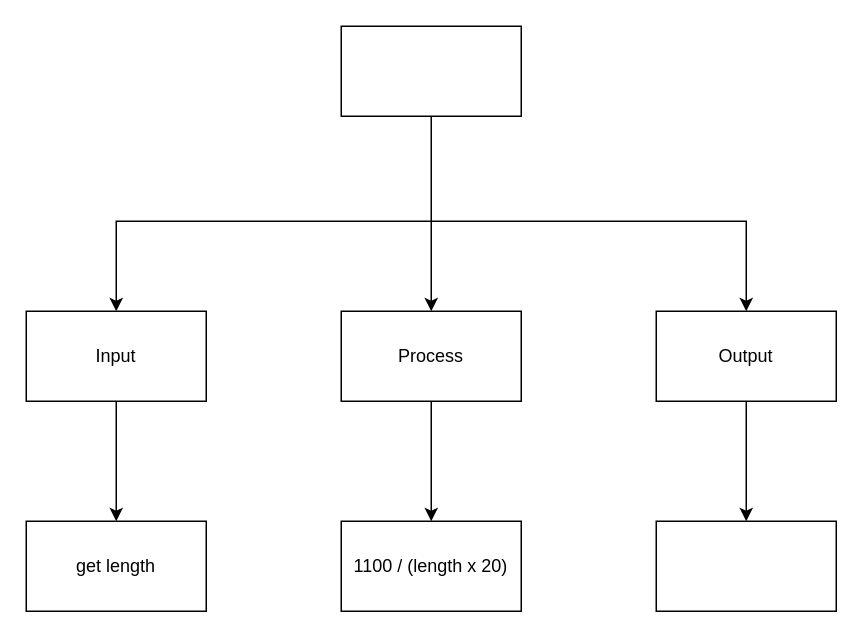
This 863x638 diagram has some shape labels left out. Each missing label, with the centre of its shape:
"Log Program" goes at pixel 430 70.
"Show Answer" goes at pixel 745 565.
